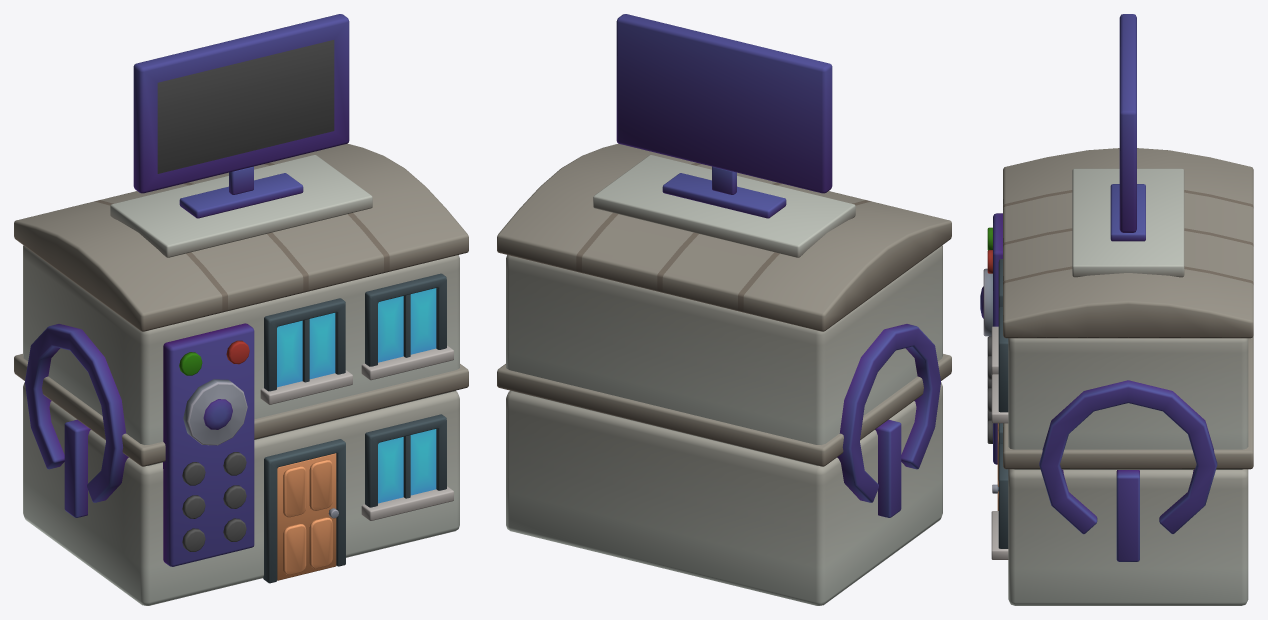
File: mct_build_full_tv.fbx
3 views of the same model, side by side, from view 1: azimuth 30°, elevation 25°; view 2: azimuth 150°, elevation 25°; view 3: azimuth 270°, elevation 25° (orthographic). The views are drawn at different scales.
Parts seen in each view (by area): view 1: mct_build_full_tv, mct_build_full_tv_door; view 2: mct_build_full_tv; view 3: mct_build_full_tv.
Part boxes in pixels (x1,y1,x2,y2): mct_build_full_tv: (14,14,468,605); mct_build_full_tv_door: (277,453,338,580); mct_build_full_tv: (497,14,951,605); mct_build_full_tv: (980,14,1253,605).
Size of the model in its own units: 640 by 866 by 455.
